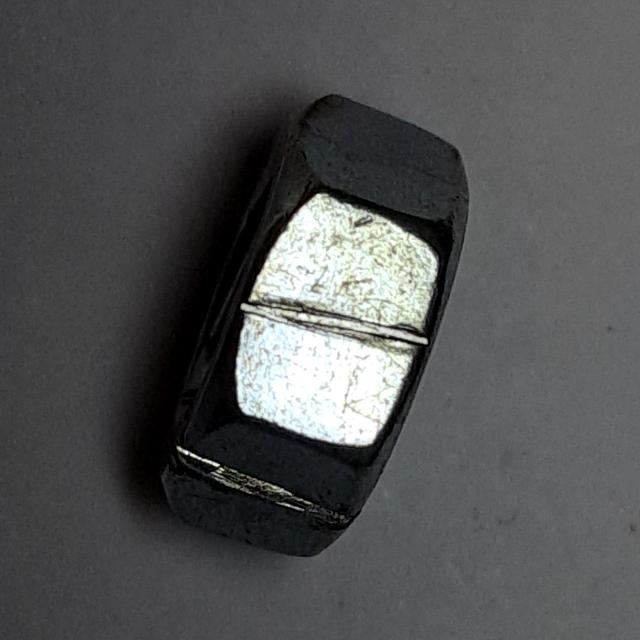Side_Scratches: (145, 79, 480, 576)
